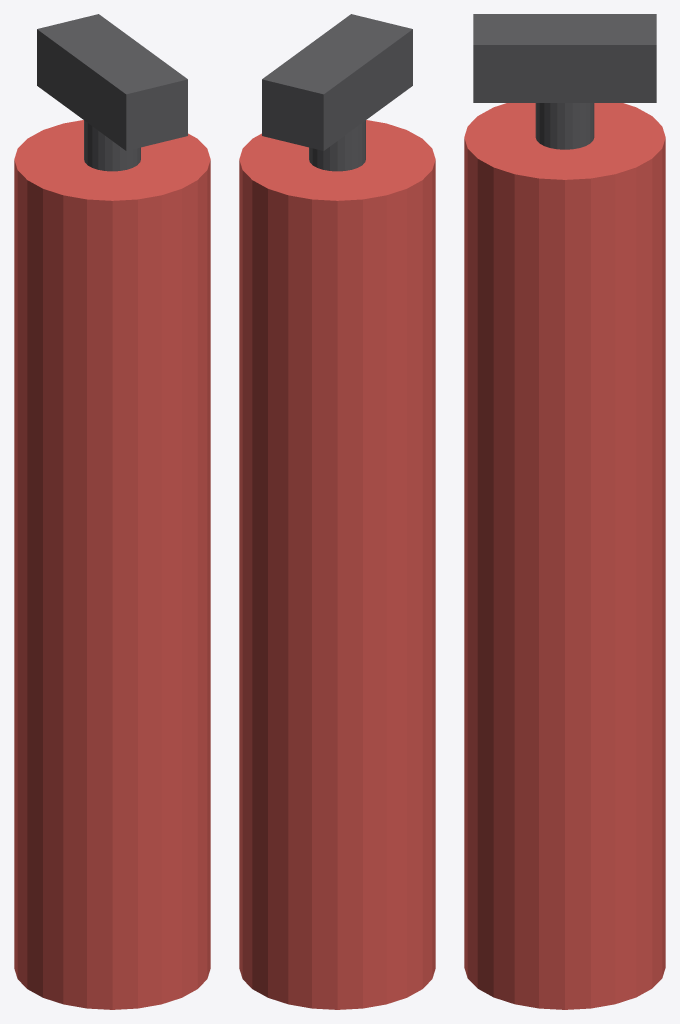
Rendered from fire_extinguisher-PRIM-002.glb.
The picture shows the model from 3 angles, left to right: view 1: azimuth 30°, elevation 25°; view 2: azimuth 150°, elevation 25°; view 3: azimuth 270°, elevation 25°; orthographic projection. The views are drawn at different scales.
Visible parts, largest first — view 1: p0, p2, p1; view 2: p0, p2, p1; view 3: p0, p2, p1.
Boxes of the visible parts, bbox=[...] form: p0: bbox=[14, 120, 210, 1009]; p2: bbox=[37, 14, 187, 150]; p1: bbox=[84, 120, 140, 171]; p0: bbox=[239, 120, 435, 1009]; p2: bbox=[262, 14, 412, 150]; p1: bbox=[309, 120, 365, 171]; p0: bbox=[464, 103, 665, 1009]; p2: bbox=[473, 14, 656, 102]; p1: bbox=[535, 103, 594, 149].
Size of the model in its own units: 0.11 by 0.565 by 0.11.
